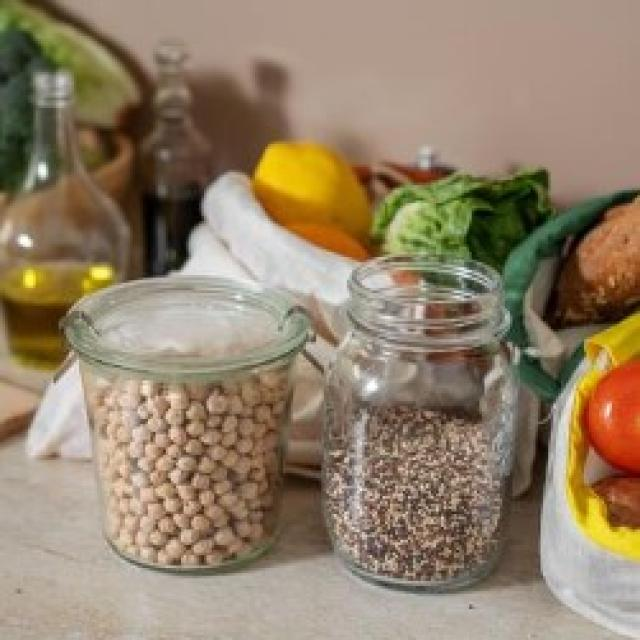electronic: (68, 246, 516, 598)
